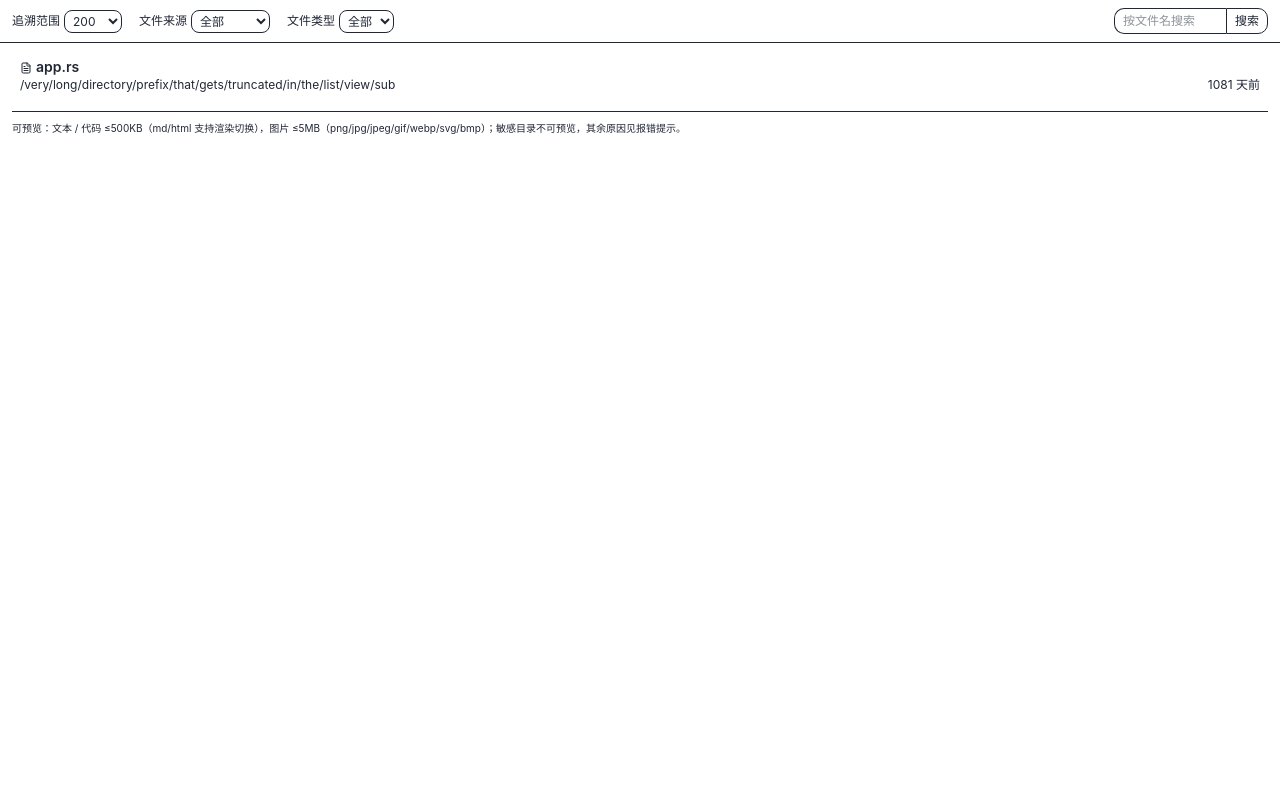
Test: FilePanel 目录路径点击弹全路径（2026-09-16 用户裁决） › 弹层可关闭（再点目录 / 点关闭按钮）
Click the button with test id "file-row-0-dir".
click(208, 84)  # box [20,77,1200,93]
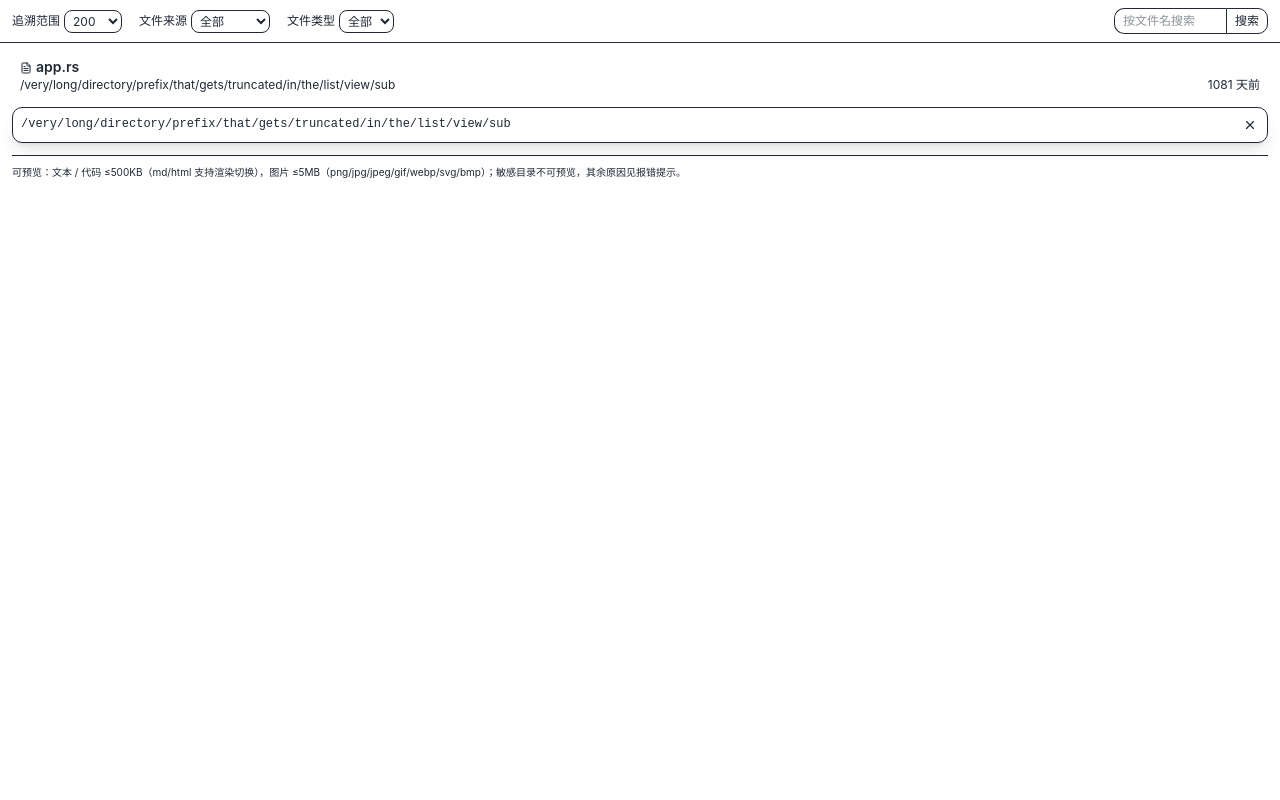
Expected: the dialog with test id "path-popover" is shown, [12,107,1268,143]
Click the button with test id "path-popover-close".
click(1250, 125)  # box [1241,116,1259,134]
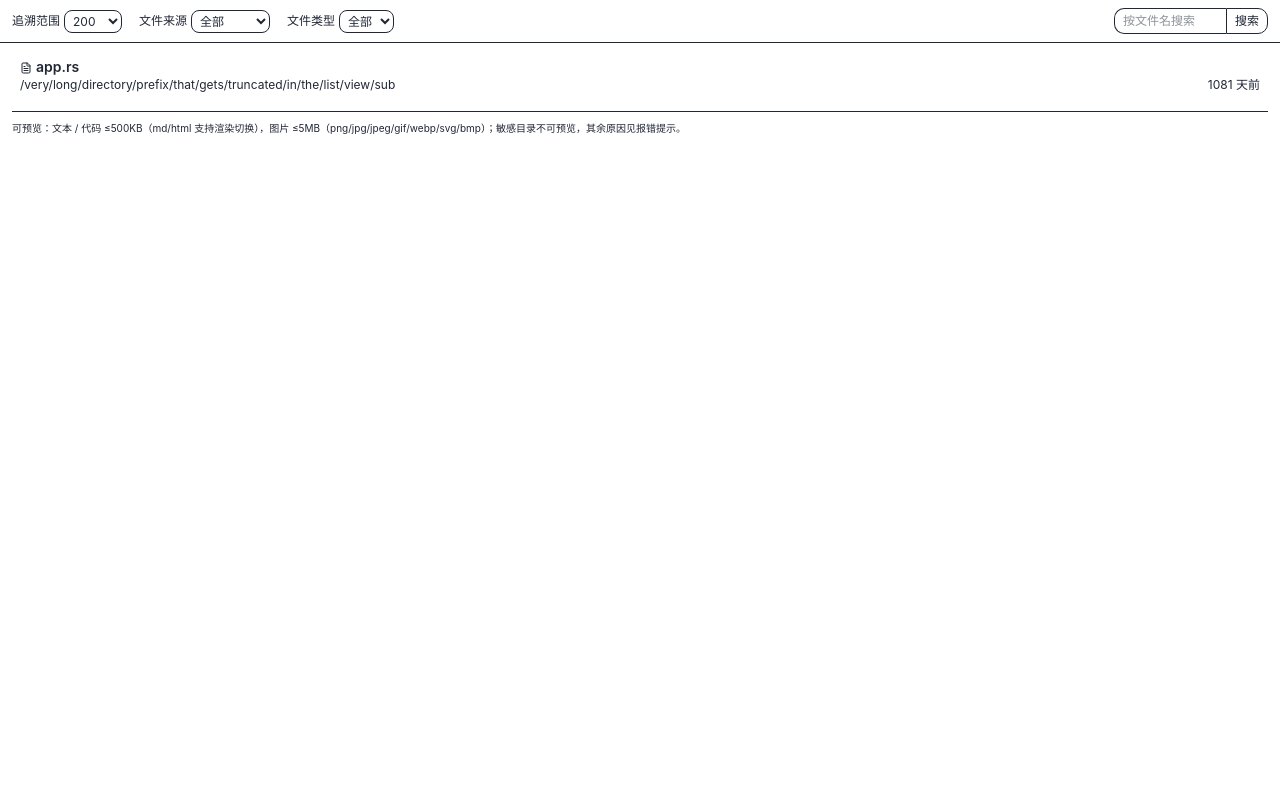
Expected: the dialog with test id "path-popover" is gone
